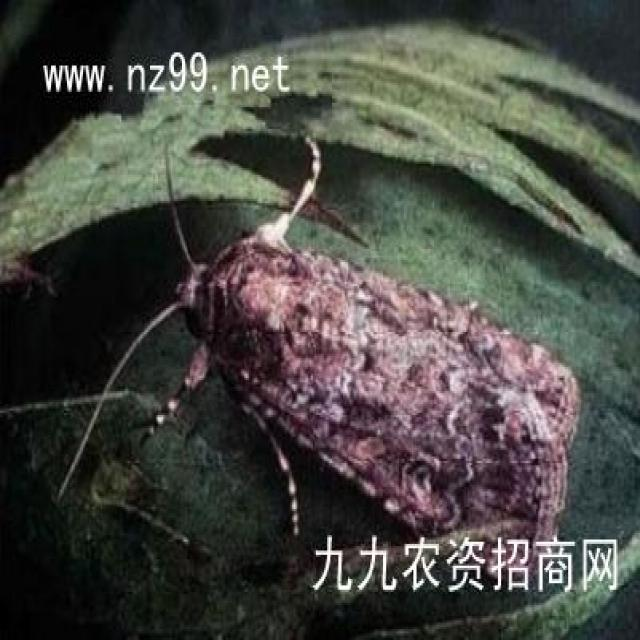BeetArmyWorm-Adult-: (154, 119, 580, 564)
